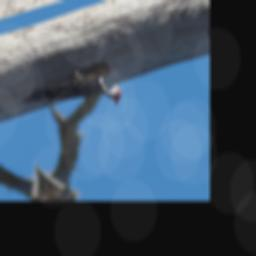Woodpecker: (9, 51, 130, 132)
